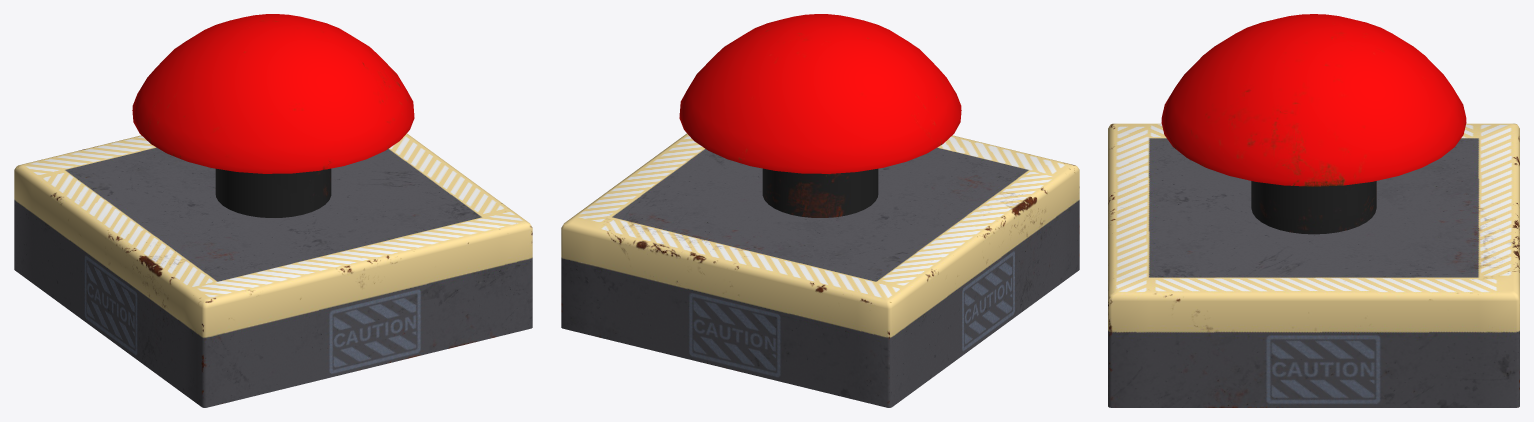
The model's file is button - Wolf Sketchfab.fbx.
3 renders of one model, left to right at view 1: azimuth 30°, elevation 25°; view 2: azimuth 150°, elevation 25°; view 3: azimuth 270°, elevation 25°, orthographic. The views are drawn at different scales.
Visible parts, largest first — view 1: Cube; view 2: Cube; view 3: Cube.
Boxes of the visible parts, x1,y1,x2,y2 form: Cube: (14, 14, 532, 407); Cube: (561, 14, 1079, 407); Cube: (1108, 14, 1519, 407).
Bounding box in the file's own units: 2 × 1.56 × 2.
1 material, 1 textured.
